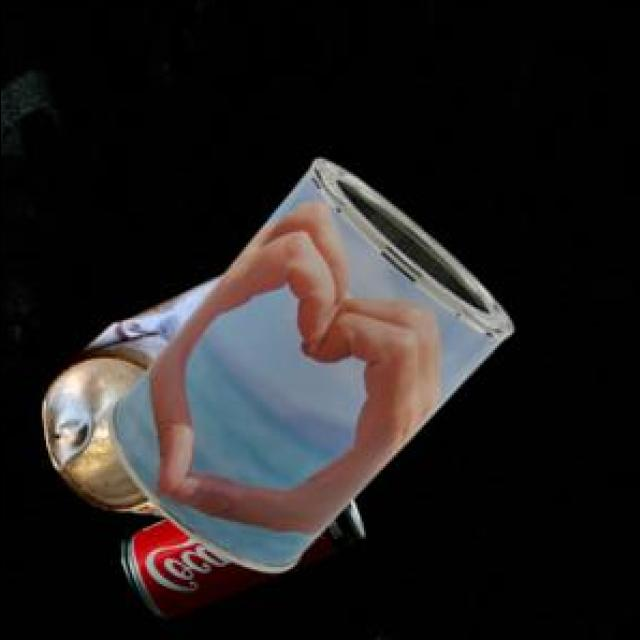logam: (111, 162, 517, 577), (44, 281, 224, 519), (123, 504, 366, 622)
